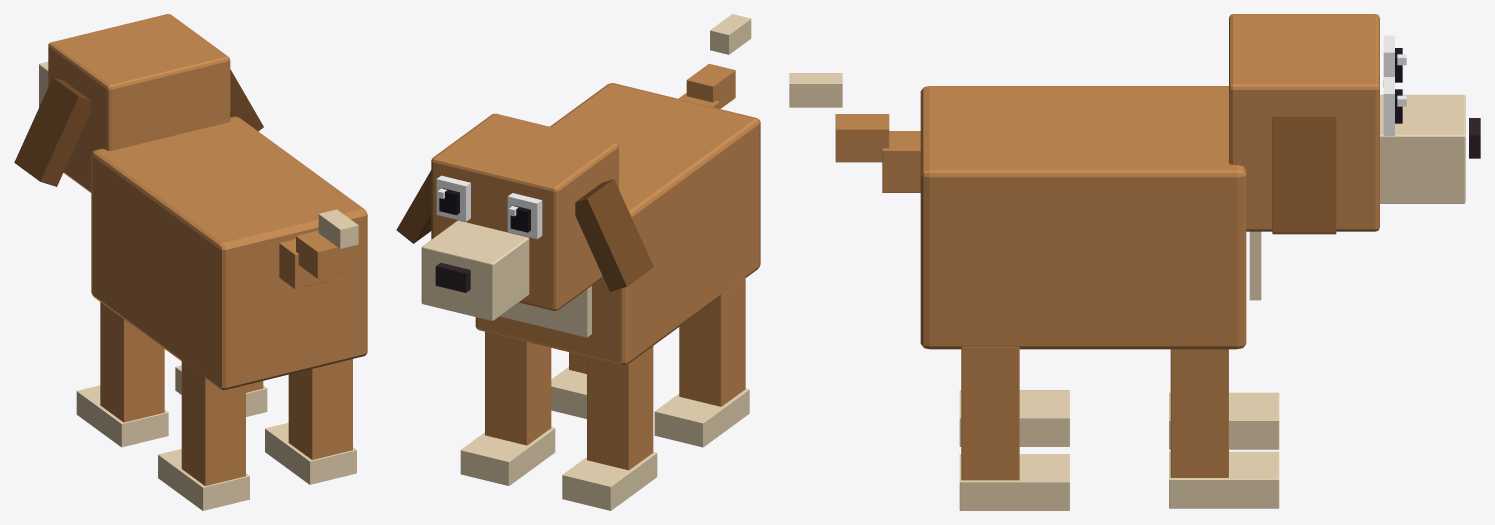
File: dog.glb
The picture shows the model from 3 angles, left to right: view 1: azimuth 30°, elevation 25°; view 2: azimuth 150°, elevation 25°; view 3: azimuth 270°, elevation 25°; orthographic projection. The views are drawn at different scales.
Visible parts, largest first — view 1: body, head, leg.BR, leg.FR, leg.BL, ear.R, tail, ear.L, leg.FL; view 2: body, head, leg.FR, leg.FL, leg.BR, ear.R, tail, leg.BL, ear.L; view 3: body, head, leg.BL, leg.FL, ear.L, tail, leg.BR, leg.FR.
Boxes of the visible parts, x1,y1,x2,y2 form: body: (91, 116, 367, 389); head: (39, 14, 230, 192); leg.BR: (158, 360, 249, 510); leg.FR: (76, 302, 168, 447); leg.BL: (265, 359, 356, 484); ear.R: (14, 77, 90, 186); tail: (279, 209, 358, 288); ear.L: (230, 69, 263, 131); leg.FL: (175, 365, 267, 416); body: (475, 83, 760, 365); head: (421, 113, 618, 320); leg.FR: (562, 346, 657, 510); leg.FL: (460, 331, 555, 485); leg.BR: (654, 277, 749, 447); ear.R: (575, 179, 653, 291); tail: (678, 14, 751, 108); leg.BL: (551, 352, 586, 418); ear.L: (396, 170, 431, 243); body: (920, 86, 1261, 349); head: (1229, 14, 1480, 231); leg.BL: (959, 346, 1069, 510); leg.FL: (1169, 349, 1279, 508); ear.L: (1272, 116, 1336, 234); tail: (789, 73, 920, 192); leg.BR: (959, 390, 1069, 446); leg.FR: (1169, 392, 1279, 449).
Size of the model in its own units: 0.6892 by 1 by 1.51.
